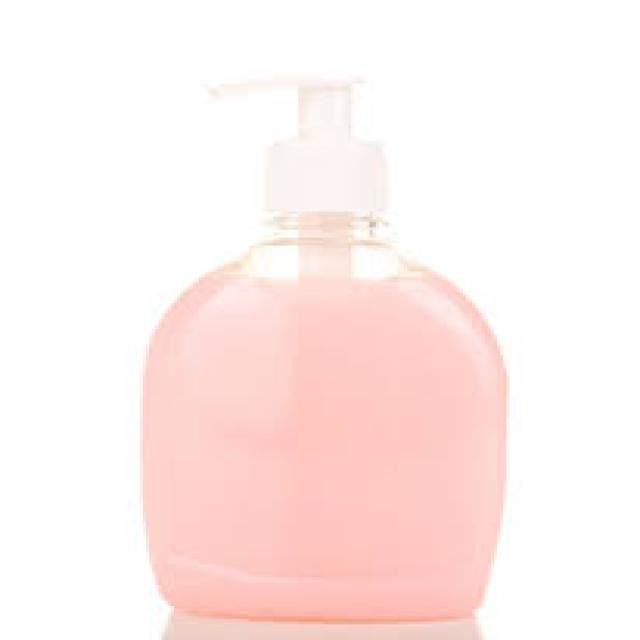liquid soap: (144, 66, 508, 620)
